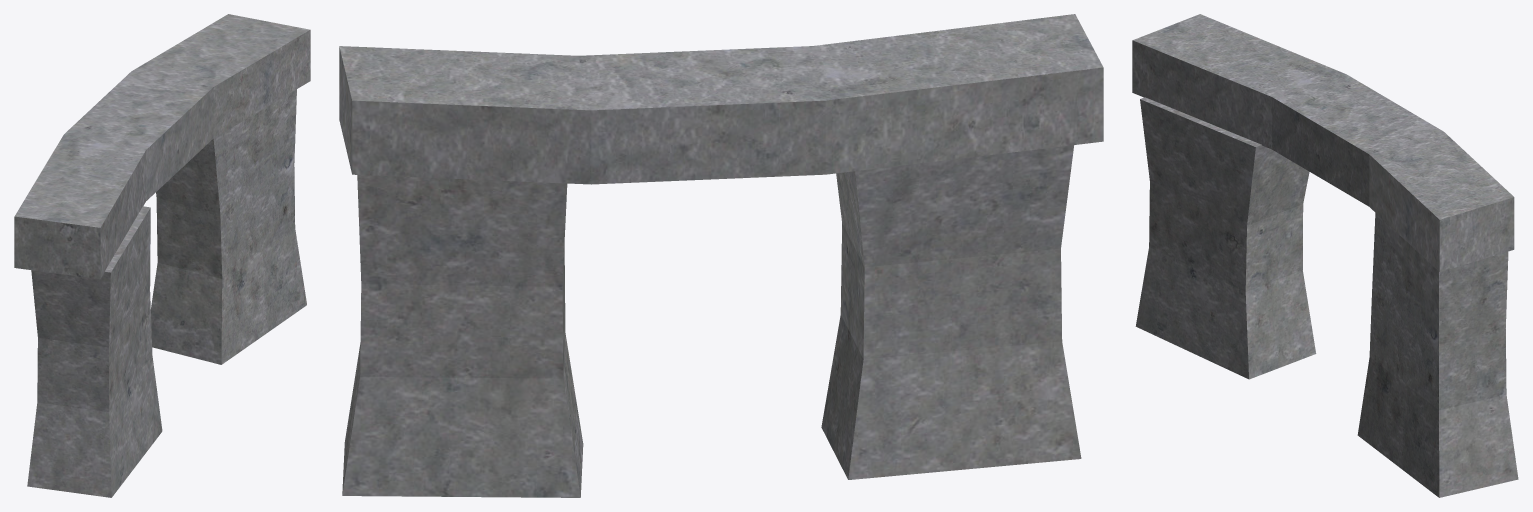
Rendered from ara-henge_01.fbx.
3 views of the same model, side by side, from view 1: azimuth 30°, elevation 25°; view 2: azimuth 150°, elevation 25°; view 3: azimuth 270°, elevation 25° (orthographic). The views are drawn at different scales.
Visible parts, largest first — view 1: ara-henge_01; view 2: ara-henge_01; view 3: ara-henge_01.
Boxes of the visible parts, x1,y1,x2,y2 form: ara-henge_01: (14, 14, 310, 497); ara-henge_01: (339, 14, 1103, 497); ara-henge_01: (1132, 14, 1518, 497).
Size of the model in its own units: 383 by 243 by 304.
